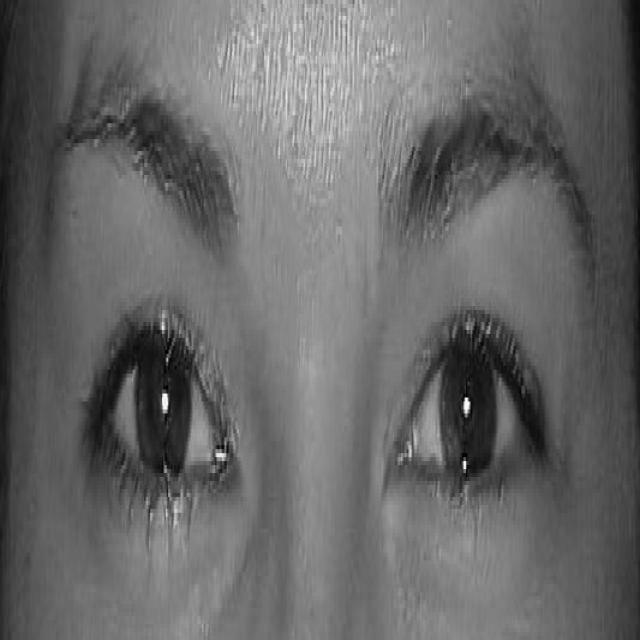real: (46, 134, 592, 602)
